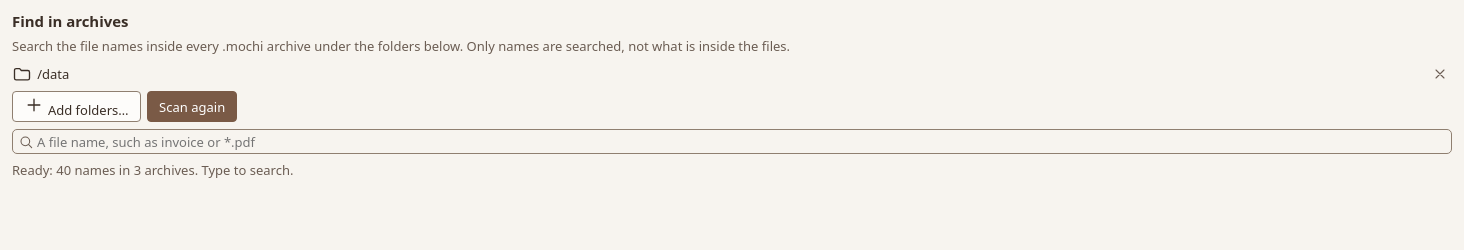
Scenario: an escaped name says so, and a long list says how many are shown
Type "a" into the search field with test id "find-query" at {"x": 732, "y": 142}, box [12,129,1452,154]
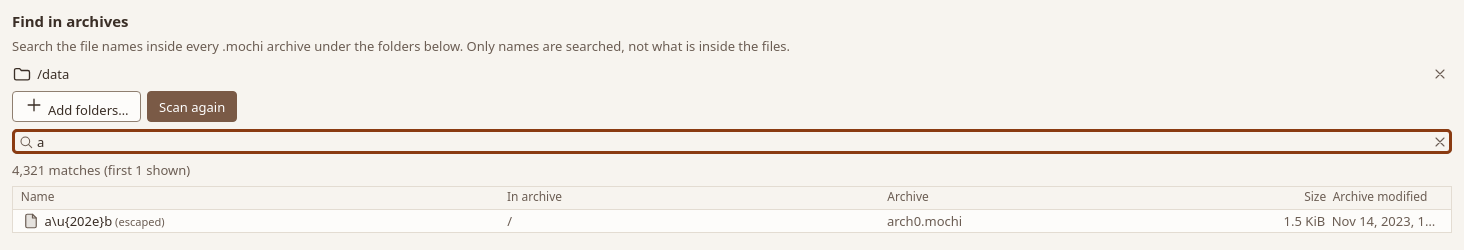
Expected: the button with test id "find-hit" is shown, [13,210,1451,232]
Expected: the message with test id "find-status" reads "4,321 matches (first 1 shown)", [12,161,190,179]
Expected: the text "(escaped)" is shown, [112,214,164,229]
